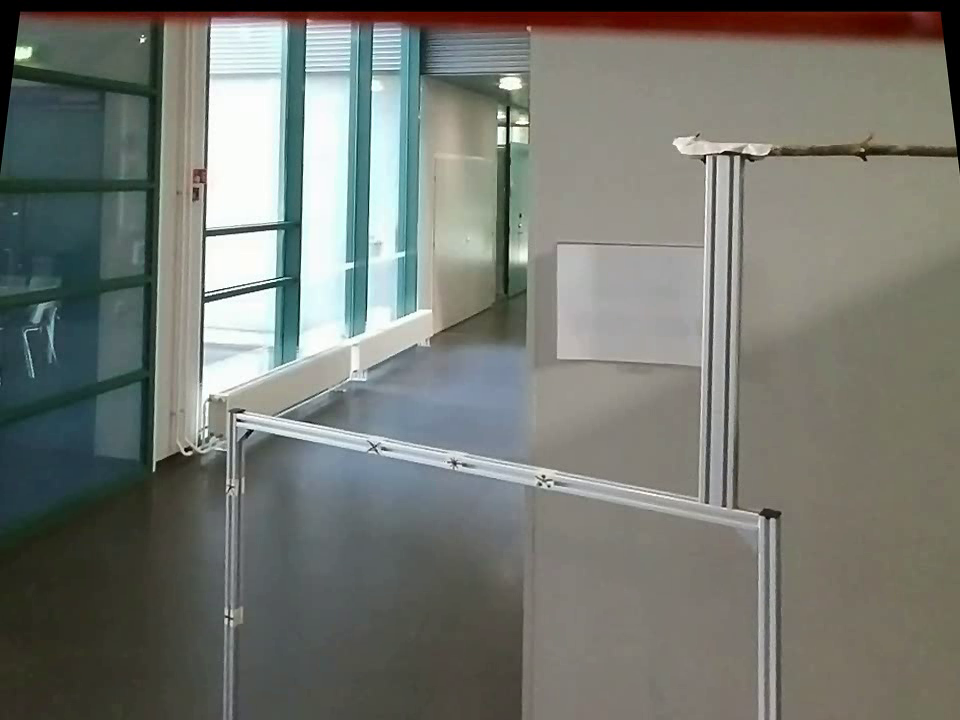aluminum_frame: (223, 393, 788, 538), (698, 158, 744, 513), (215, 406, 245, 716), (753, 499, 787, 717)
branch: (768, 125, 954, 171)
